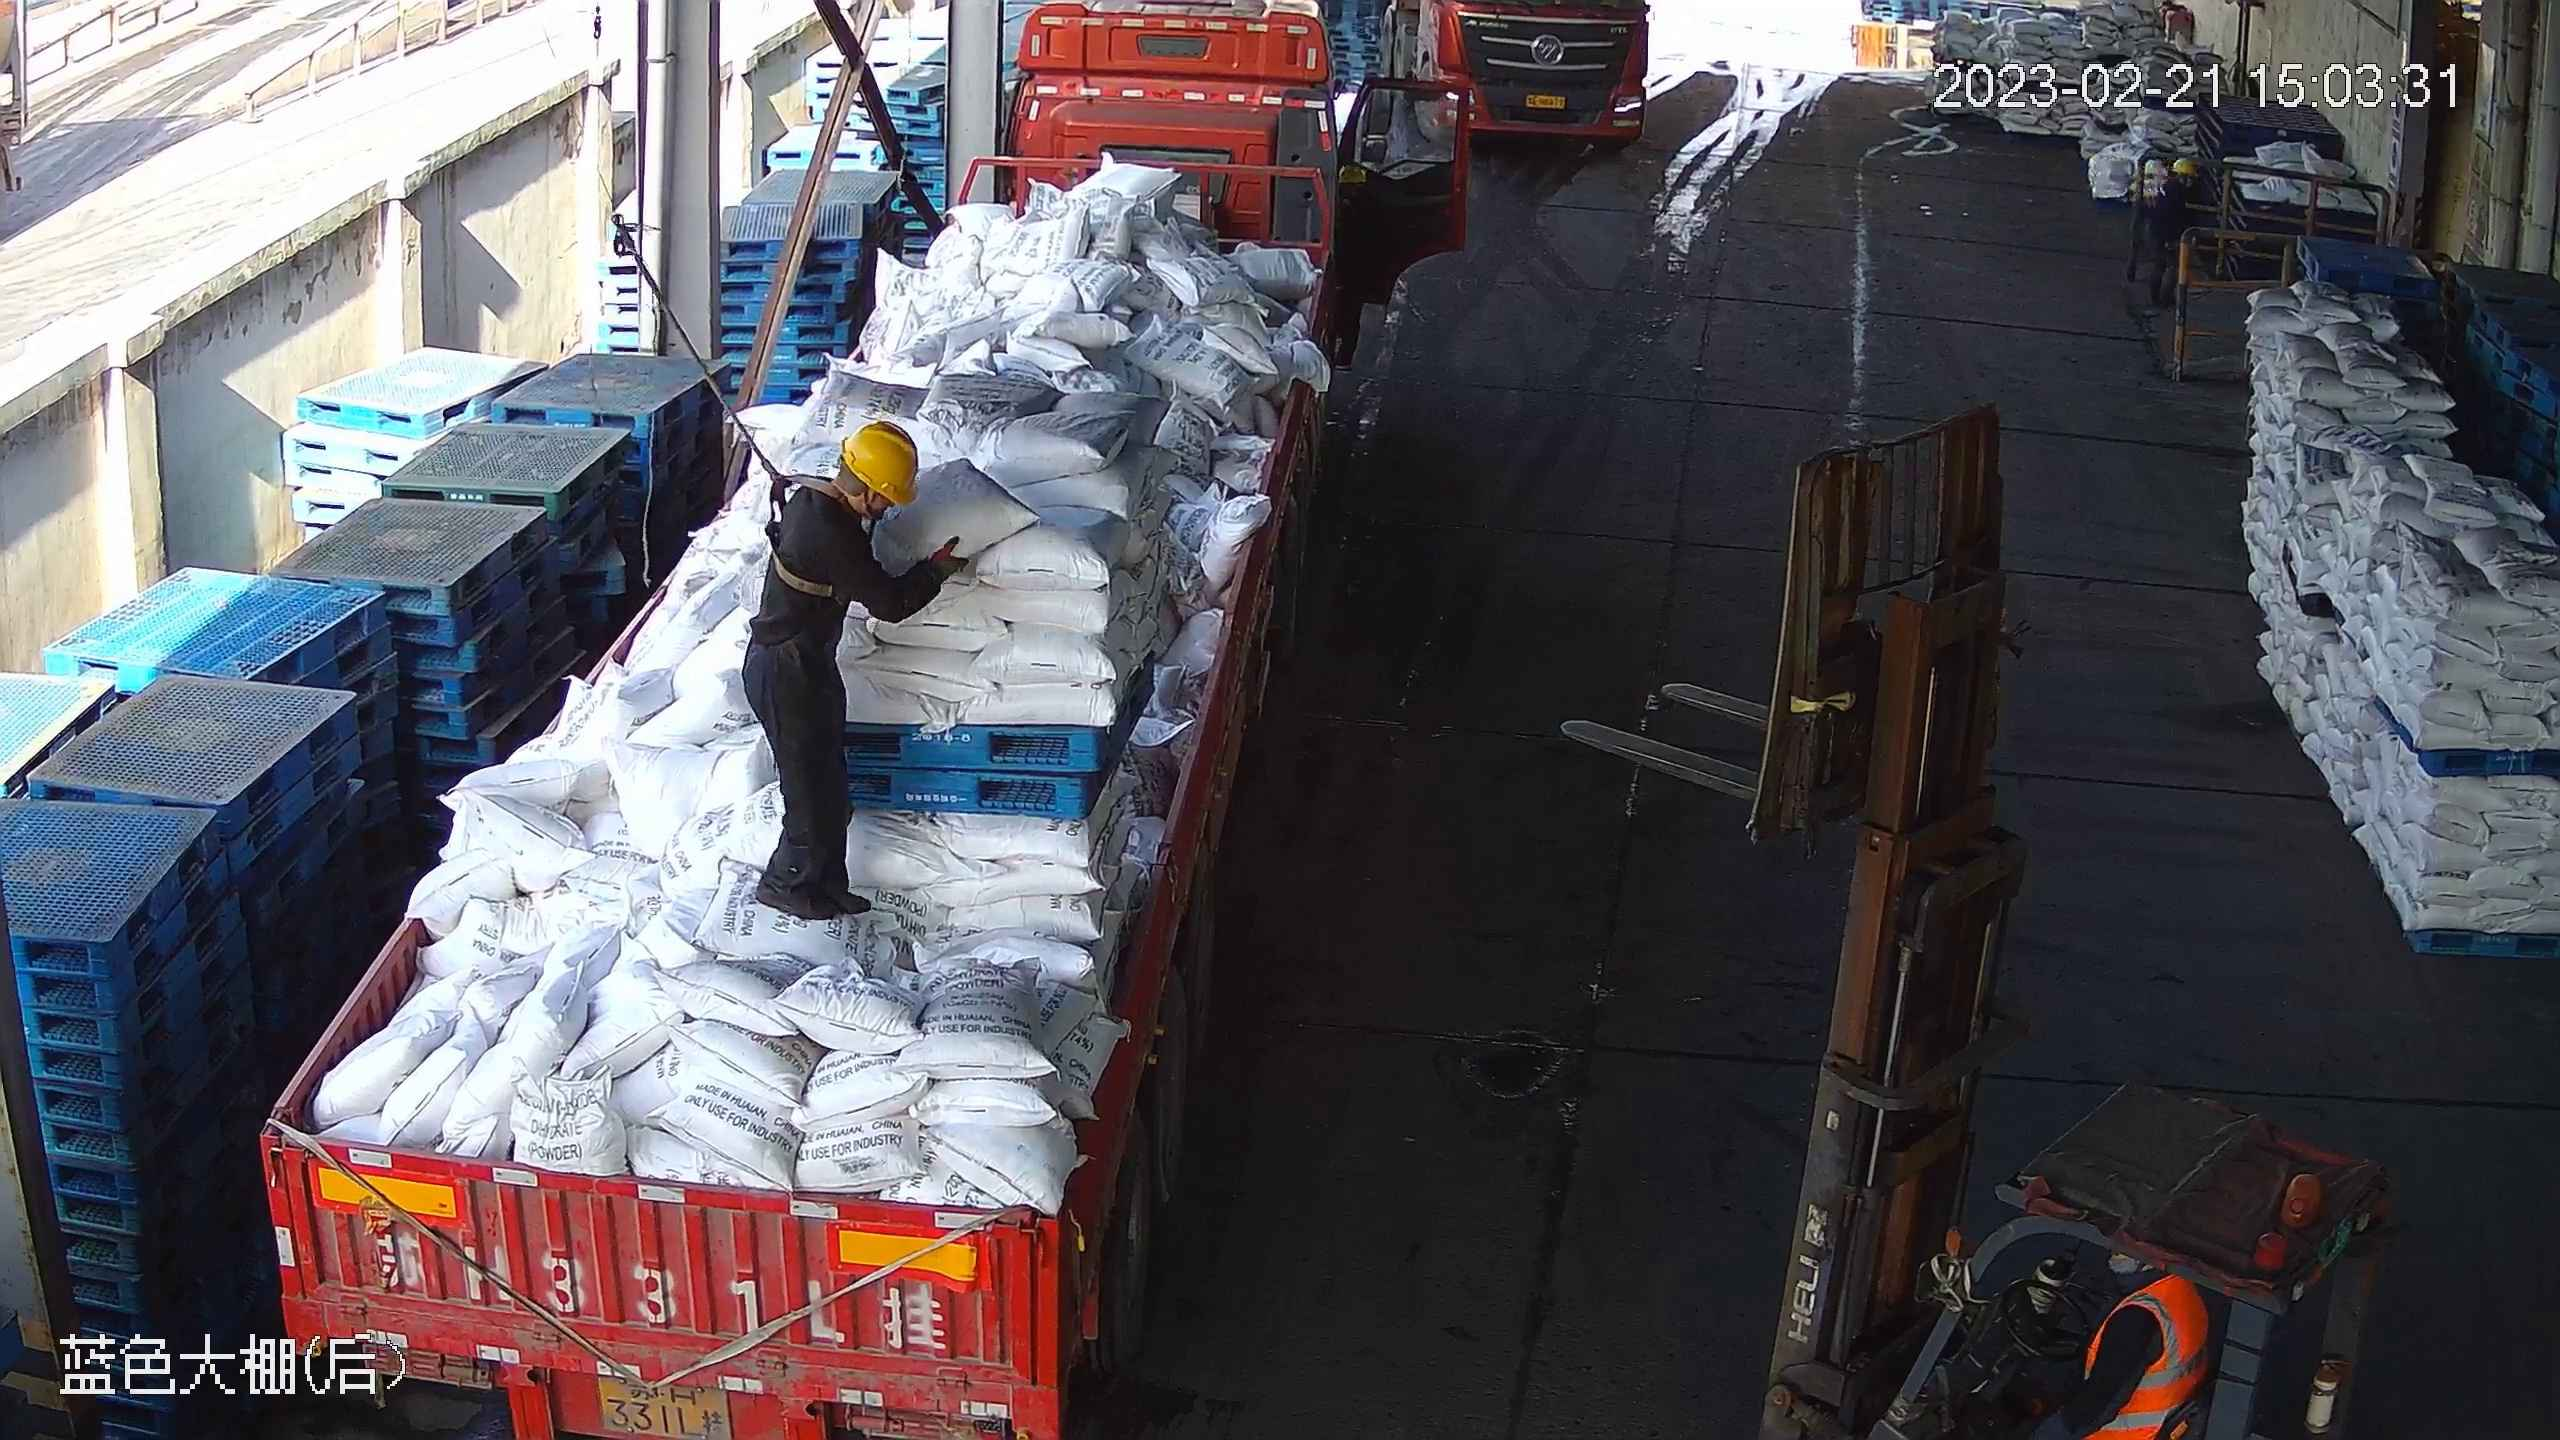belt: (752, 452, 844, 604)
head: (763, 420, 921, 592), (2150, 156, 2197, 210)
helmet: (842, 419, 920, 505), (2170, 155, 2194, 174)
people: (740, 418, 968, 918), (2150, 155, 2199, 306)
truck: (251, 1, 1474, 1432), (1381, 1, 1656, 162)
